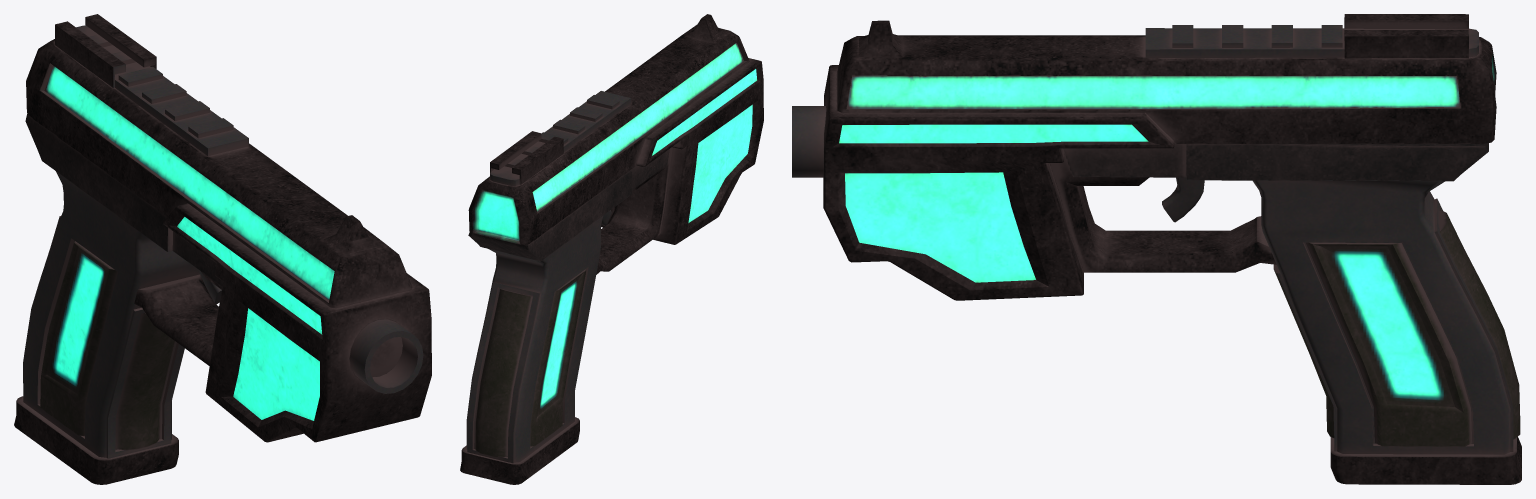
Rendered from pistol.fbx.
The picture shows the model from 3 angles, left to right: view 1: azimuth 30°, elevation 25°; view 2: azimuth 150°, elevation 25°; view 3: azimuth 270°, elevation 25°; orthographic projection. The views are drawn at different scales.
Visible parts, largest first — view 1: polySurface24; view 2: polySurface24; view 3: polySurface24.
Part boxes in pixels (x1,y1,x2,y2): polySurface24: [14, 14, 431, 484]; polySurface24: [460, 14, 763, 484]; polySurface24: [792, 14, 1521, 484].
Bounding box in the file's own units: 0.0359 × 0.1346 × 0.2019.
Materials: 1 (1 with a texture image).
